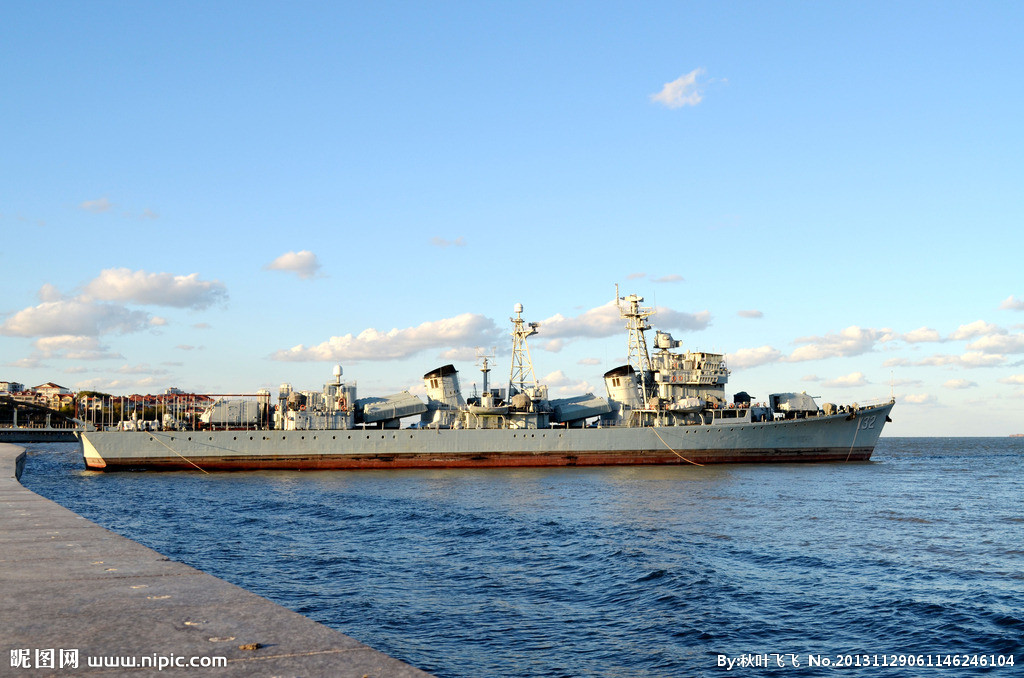warship: (77, 284, 898, 473)
